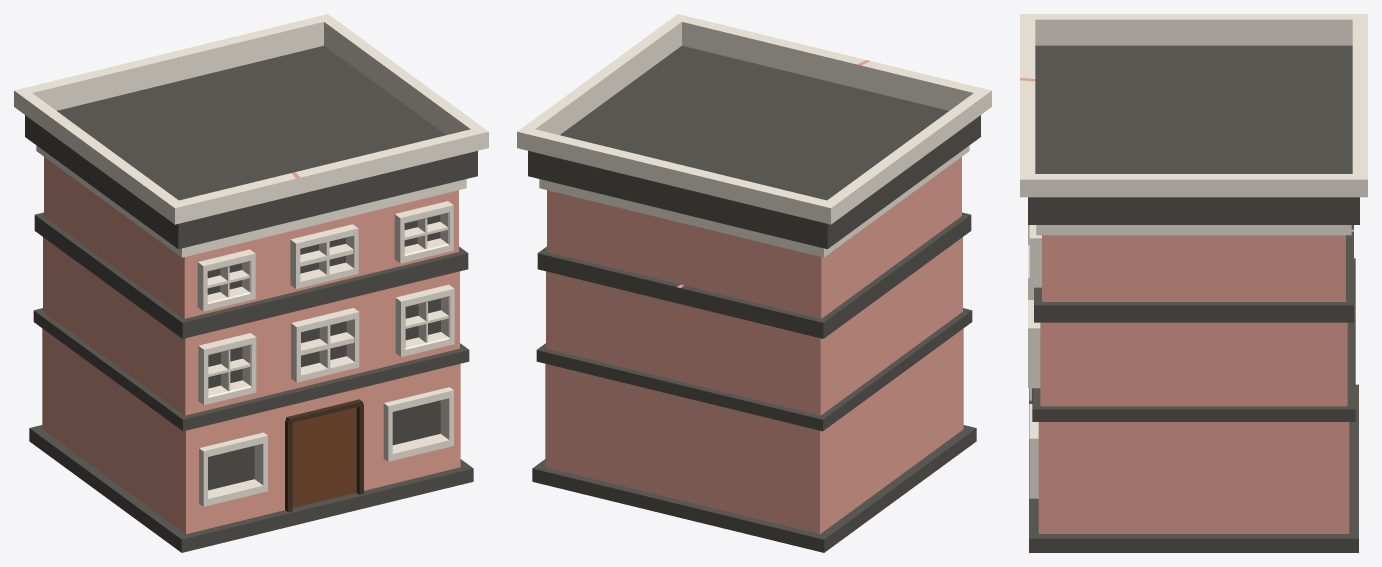
File: Gedung3.glb
The picture shows the model from 3 angles, left to right: view 1: azimuth 30°, elevation 25°; view 2: azimuth 150°, elevation 25°; view 3: azimuth 270°, elevation 25°; orthographic projection. The views are drawn at different scales.
Parts seen in each view (by area): view 1: Cube.407; view 2: Cube.407; view 3: Cube.407.
Boxes of the visible parts, bbox=[...] form: Cube.407: bbox=[14, 14, 488, 552]; Cube.407: bbox=[517, 14, 991, 552]; Cube.407: bbox=[1020, 14, 1367, 552].
Bounding box in the file's own units: 11.05 × 11.79 × 9.81.
